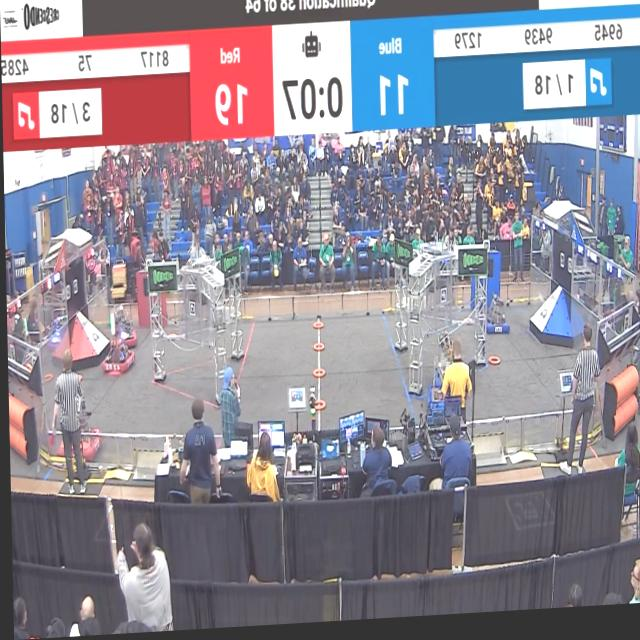Robot: (50, 371, 101, 470), (100, 309, 136, 391), (478, 292, 513, 348), (106, 300, 141, 352), (425, 369, 443, 425)
